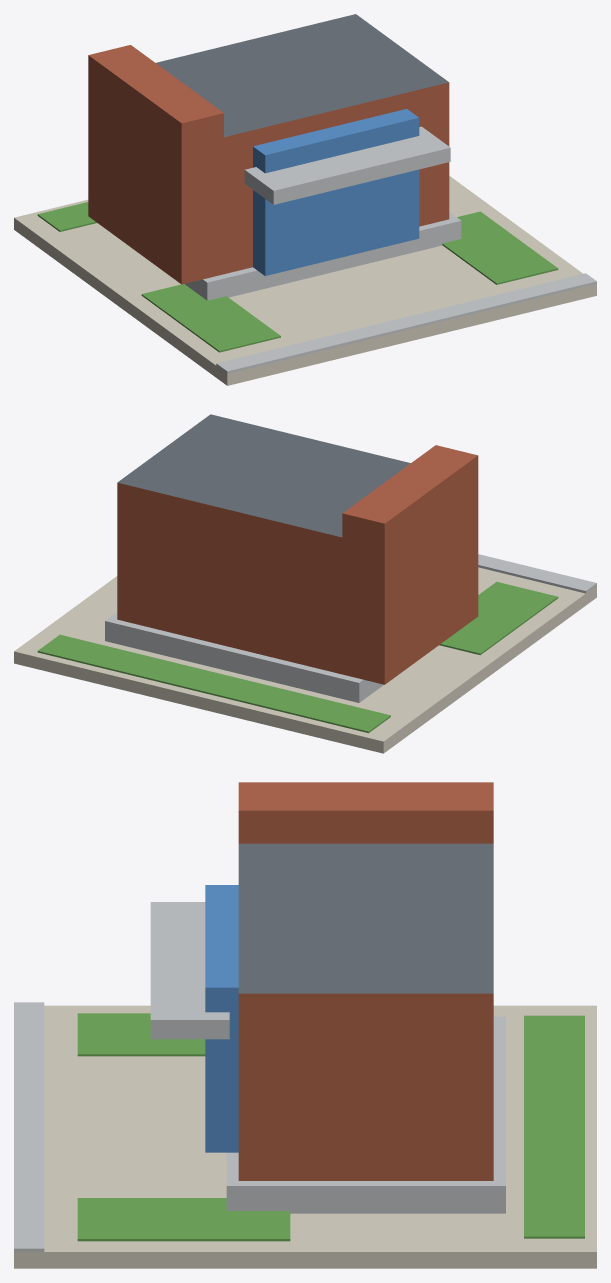
3 views of the same model, one above another, from view 1: azimuth 30°, elevation 25°; view 2: azimuth 150°, elevation 25°; view 3: azimuth 270°, elevation 25° (orthographic). The views are drawn at different scales.
Visible parts, largest first — view 1: b22_v2_lod2; view 2: b22_v2_lod2; view 3: b22_v2_lod2.
Boxes of the visible parts, x1,y1,x2,y2 form: b22_v2_lod2: (14,14,596,385); b22_v2_lod2: (14,414,596,753); b22_v2_lod2: (14,782,596,1268).
Size of the model in its own units: 0.96 by 0.48 by 0.96.
